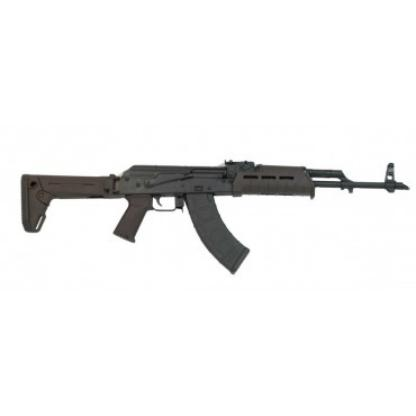gun: (16, 156, 408, 274)
